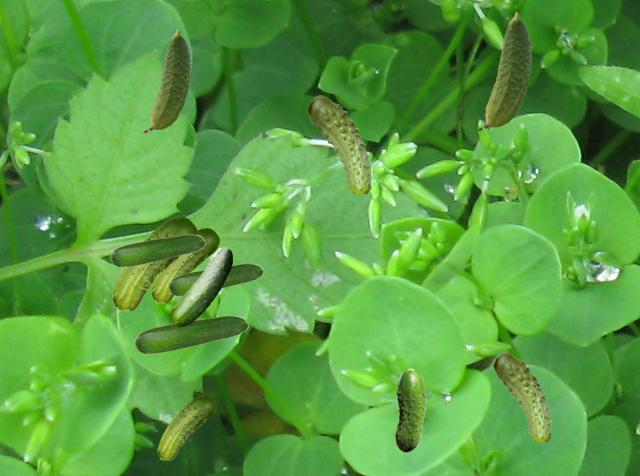cucumber: (112, 217, 196, 310), (307, 95, 371, 192), (478, 12, 531, 129), (493, 352, 551, 440), (151, 228, 218, 302), (170, 247, 231, 325), (144, 29, 190, 131), (134, 315, 247, 353), (157, 395, 215, 459), (168, 263, 262, 295), (110, 234, 204, 266), (395, 368, 425, 451)
